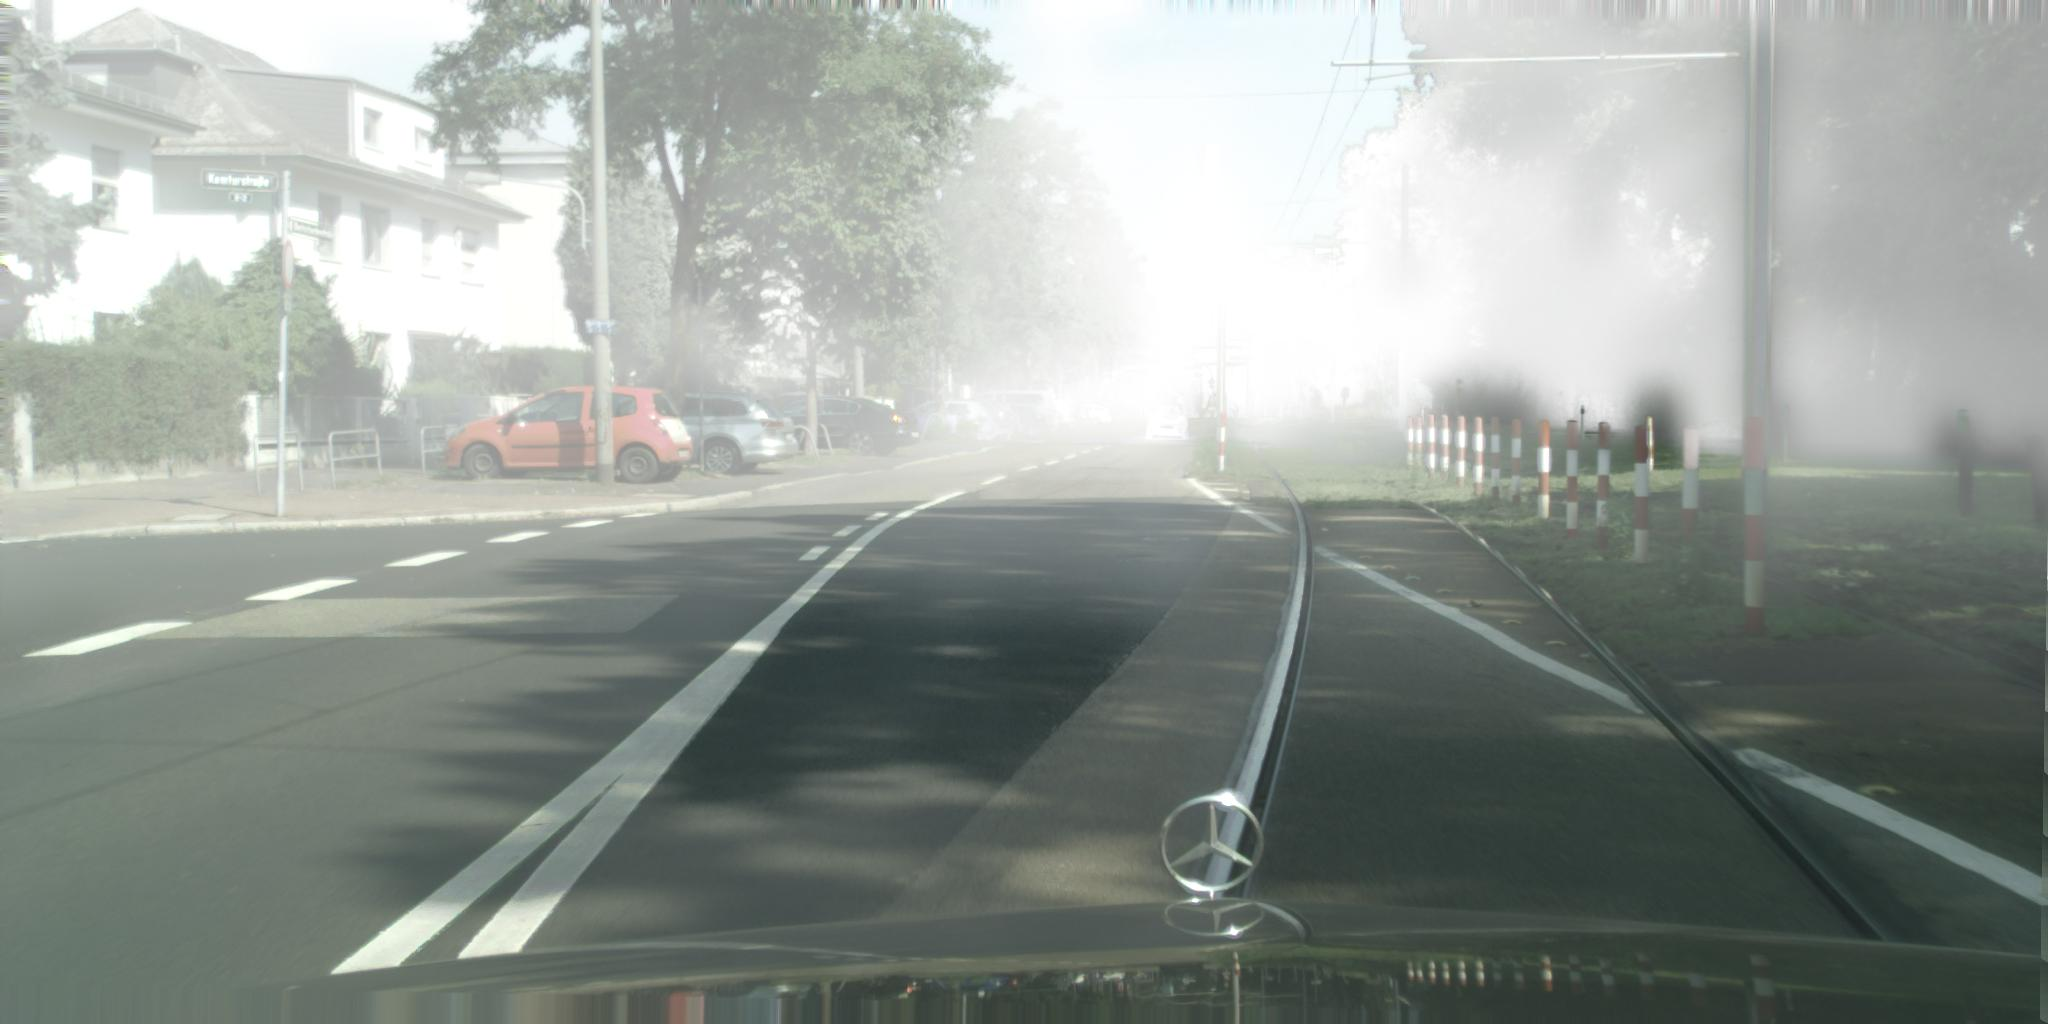car: (445, 385, 692, 486), (669, 389, 802, 475), (775, 394, 921, 458), (969, 387, 1064, 434), (904, 400, 997, 443), (968, 400, 1019, 441), (1002, 404, 1053, 438), (1145, 404, 1190, 441), (1044, 398, 1079, 426), (1070, 406, 1113, 428)
